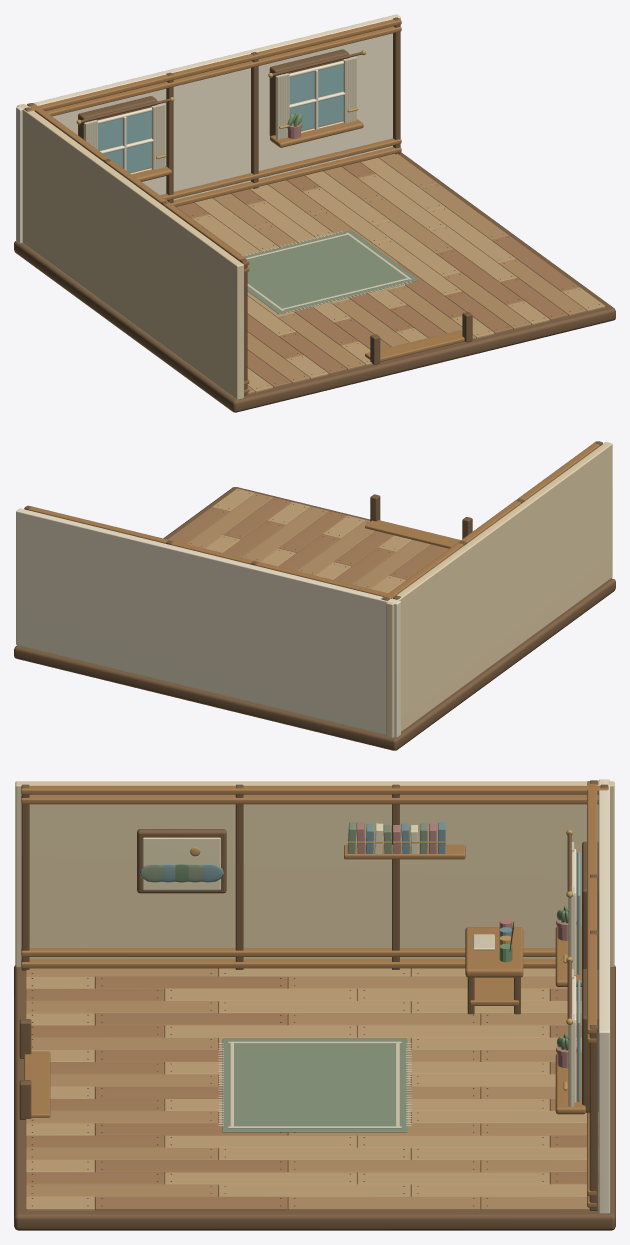
Rendered from cozy_workshop.glb.
3 views of the same model, one above another, from view 1: azimuth 30°, elevation 25°; view 2: azimuth 150°, elevation 25°; view 3: azimuth 270°, elevation 25° (orthographic). The views are drawn at different scales.
Visible parts, largest first — view 1: Left plaster wall, Back plaster wall, Staggered oak plank.001, Raised floor frame, Staggered oak plank, Back moulding, Staggered oak plank.004, Books with linen covers, Morning glass, Curtain fold; view 2: Back plaster wall, Left plaster wall, Raised floor frame, Staggered oak plank.004, Staggered oak plank, Back moulding, Staggered oak plank.001; view 3: Left plaster wall, Staggered oak plank.001, Staggered oak plank, Back moulding, Raised floor frame, Staggered oak plank.004, Books with linen covers, Back plaster wall, Curtain fold, Books with linen covers.003, Books with linen covers.002, Clay planter (+2 smaller).
Boxes of the visible parts, <box> form: Left plaster wall: <box>17,104,243,399</box>; Back plaster wall: <box>16,14,400,243</box>; Staggered oak plank.001: <box>192,157,605,392</box>; Raised floor frame: <box>14,17,615,412</box>; Staggered oak plank: <box>212,153,586,394</box>; Back moulding: <box>27,19,464,393</box>; Staggered oak plank.004: <box>176,162,579,387</box>; Books with linen covers: <box>244,230,418,314</box>; Morning glass: <box>98,64,343,172</box>; Curtain fold: <box>84,56,411,313</box>; Back plaster wall: <box>16,508,400,737</box>; Left plaster wall: <box>386,442,612,737</box>; Raised floor frame: <box>14,441,615,750</box>; Staggered oak plank.004: <box>168,497,448,584</box>; Staggered oak plank: <box>186,493,430,588</box>; Back moulding: <box>28,441,599,599</box>; Staggered oak plank.001: <box>204,488,411,593</box>; Left plaster wall: <box>15,781,614,967</box>; Staggered oak plank.001: <box>26,968,598,1210</box>; Staggered oak plank: <box>26,968,598,1210</box>; Back moulding: <box>21,781,608,1207</box>; Raised floor frame: <box>14,780,615,1230</box>; Staggered oak plank.004: <box>26,976,598,1210</box>; Books with linen covers: <box>139,822,427,1132</box>; Back plaster wall: <box>571,779,610,1213</box>; Curtain fold: <box>218,842,574,1128</box>; Books with linen covers.003: <box>142,823,418,890</box>; Books with linen covers.002: <box>162,822,512,937</box>; Clay planter: <box>356,822,577,1068</box>.
Size of the model in its own units: 10.4 by 3.84 by 10.4.
